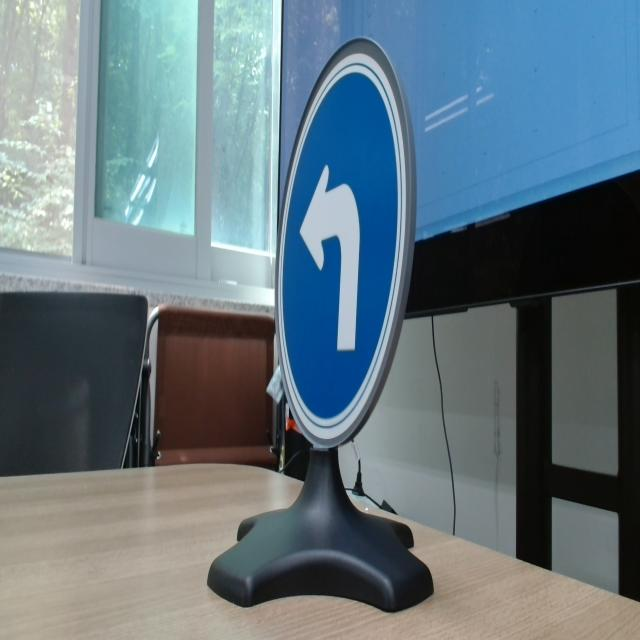left_direction: (262, 19, 424, 450)
